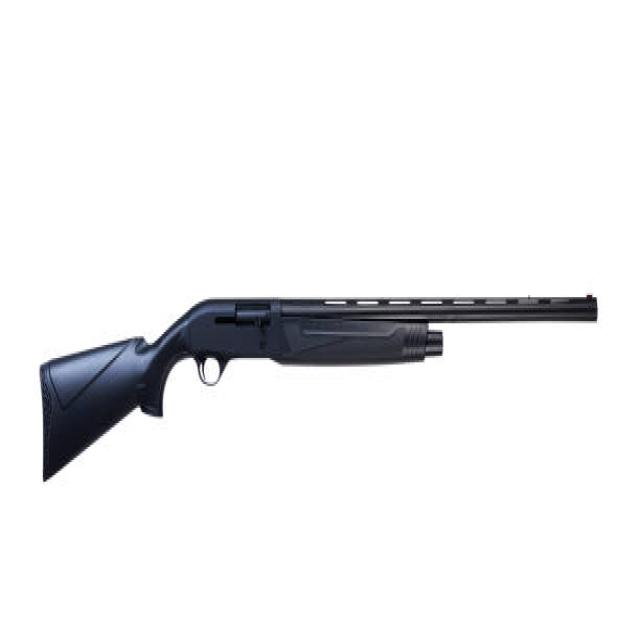rifle: (36, 276, 600, 494)
